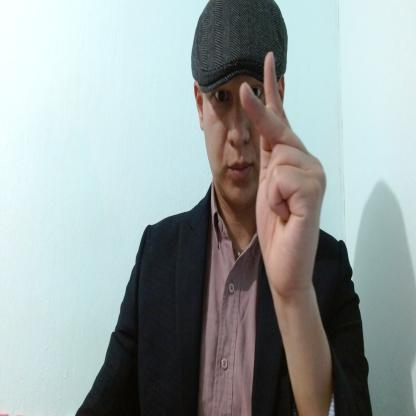P: (240, 48, 328, 300)
